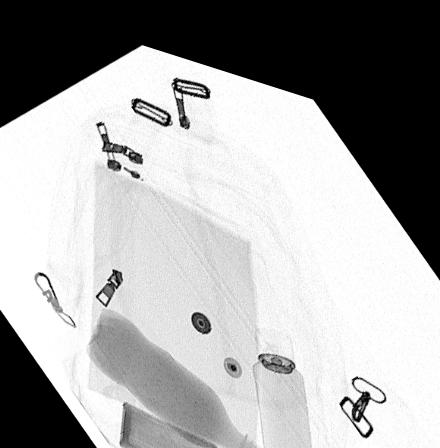Sprayer: (250, 307, 315, 448)
